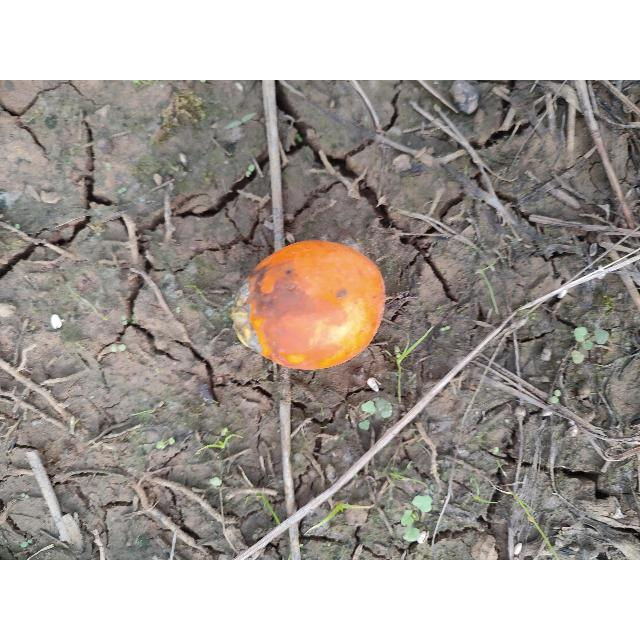good: (231, 240, 387, 372)
